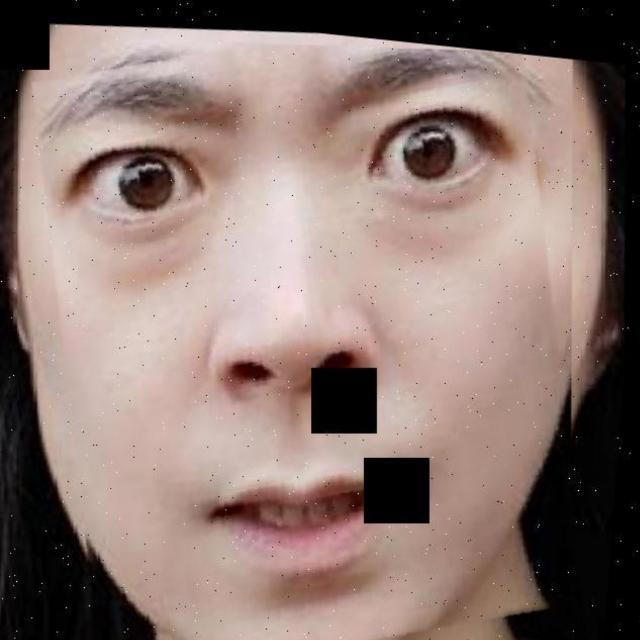Angry: (65, 25, 517, 638)
